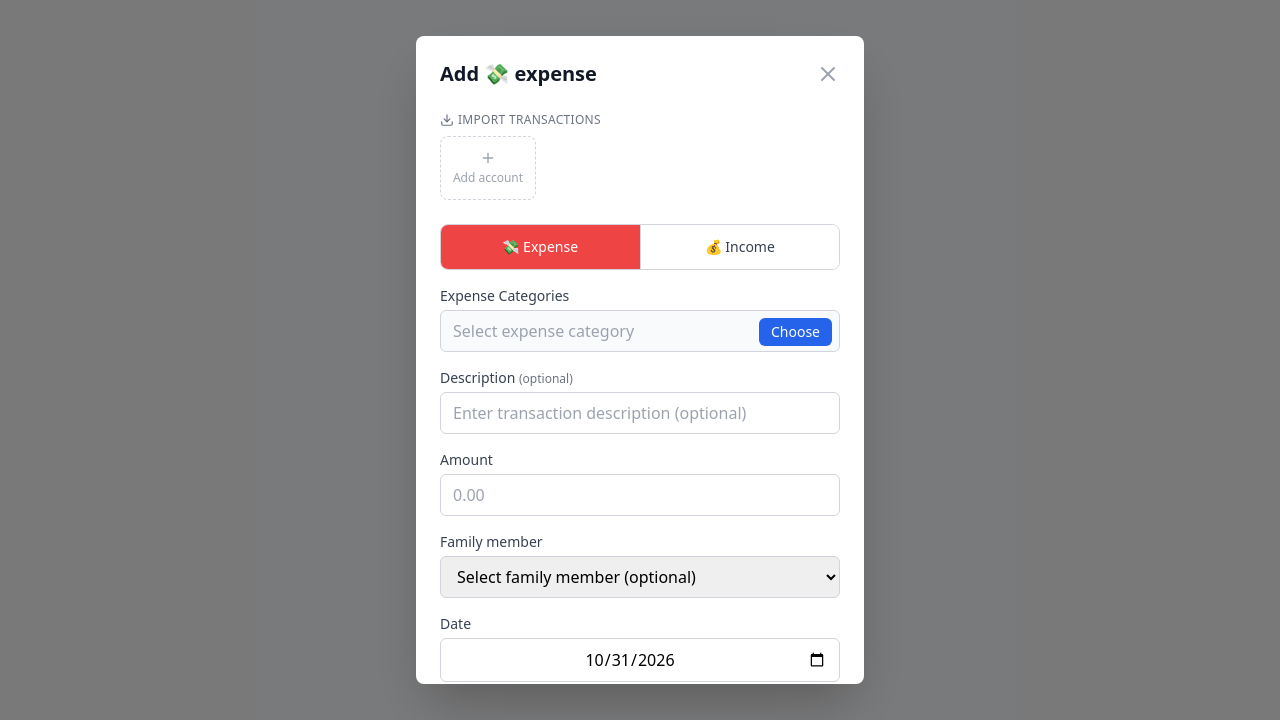
AddTransaction Stress Tests › Rapid Click Prevention › should disable submit button immediately after first click
The width and height of the screenshot is (1280, 720).
// Fill form
Type "50" into the number field labelled "Amount" at [640, 495], box [440,474,840,516]
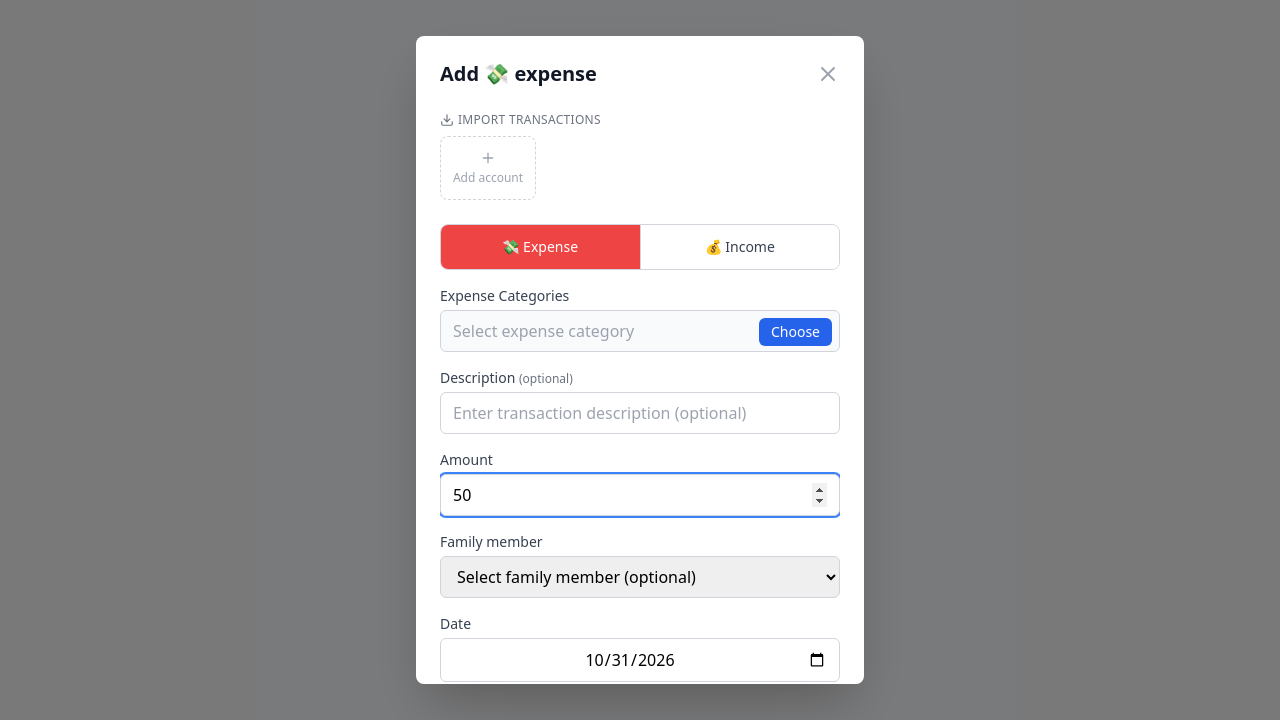
Click the field with placeholder "Select expense category" at [640, 331], box [440,310,840,352]
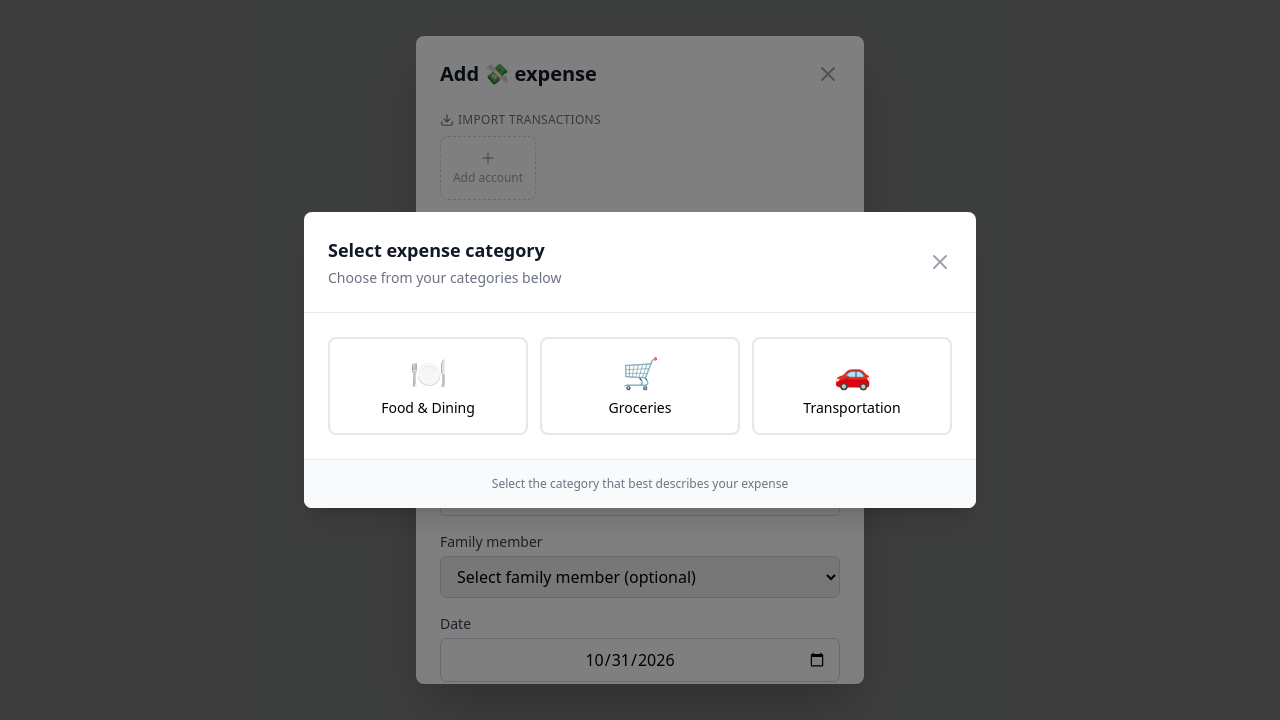
Now the text "Food & Dining" is shown
Click the text "Food & Dining" at [428, 408], box [381,399,475,417]
(page scrolled)
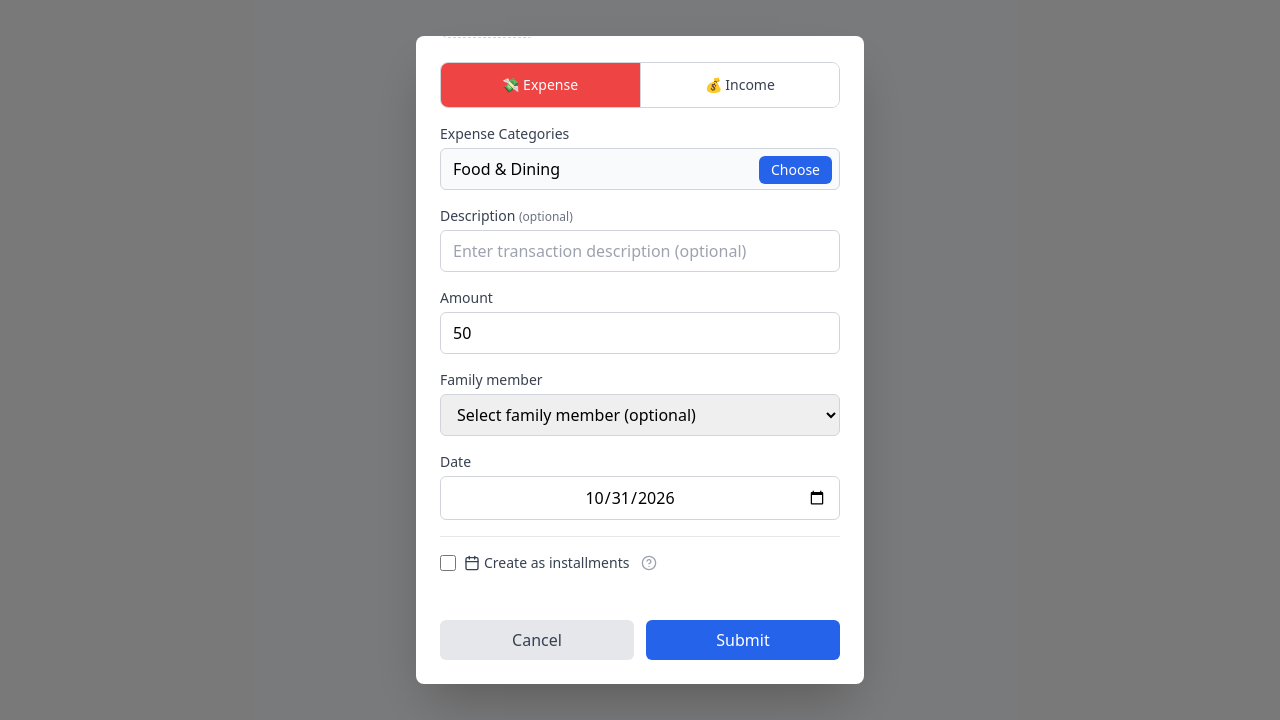
Now the field with placeholder "Select expense category" holds "Food & Dining", box [440,148,840,190]
// Click submit
Click the button "Submit" at [743, 640], box [646,620,840,660]
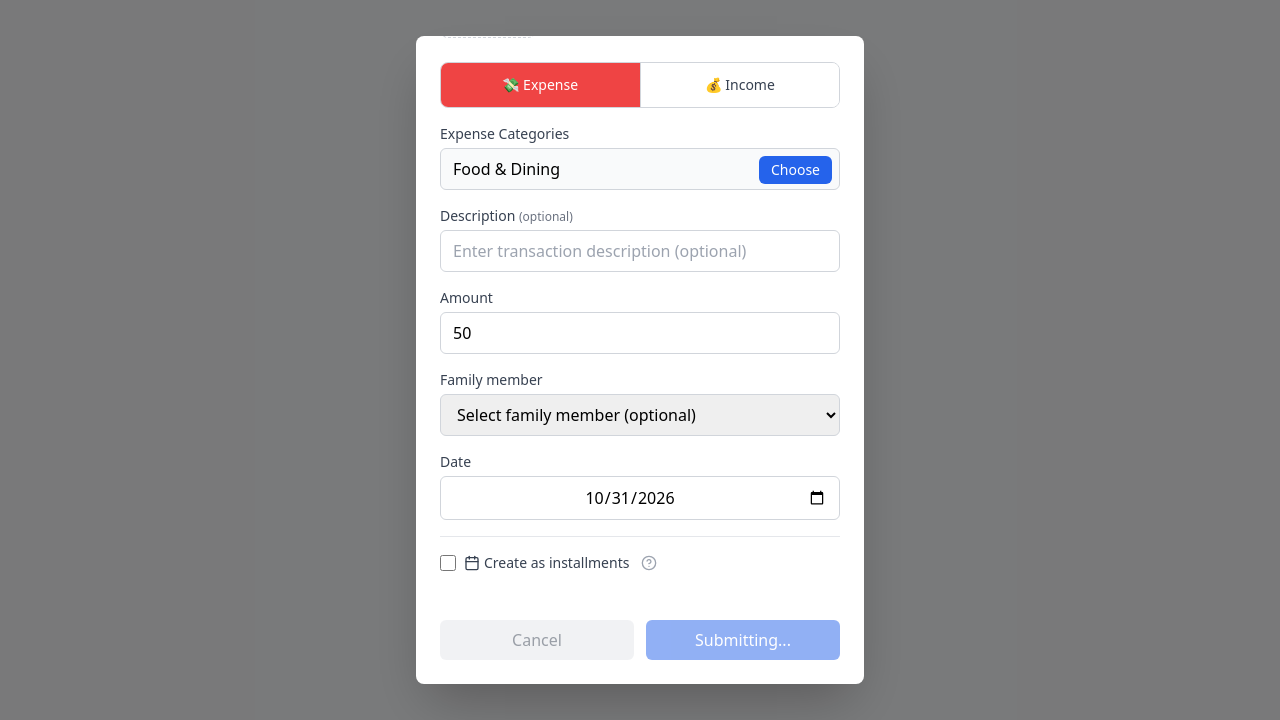
Now the button "Submitting..." is disabled, box [646,620,840,660]
Now the button "Submitting..." is shown, box [646,620,840,660]
